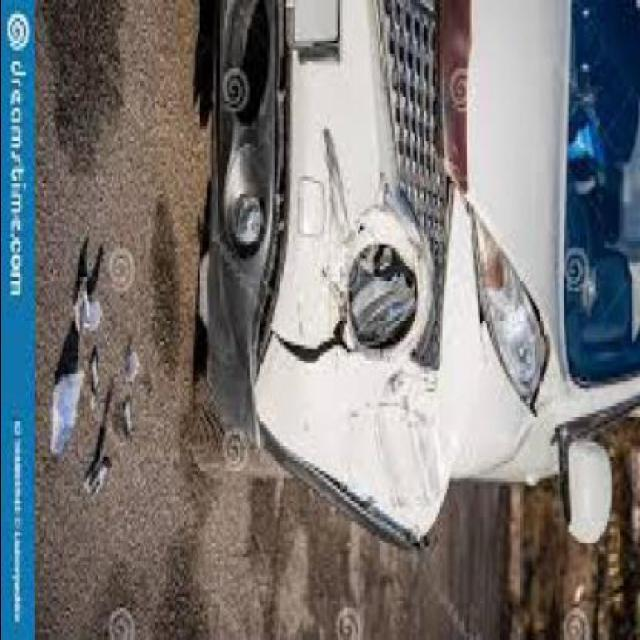front-bumper-dent: (220, 0, 453, 572)
